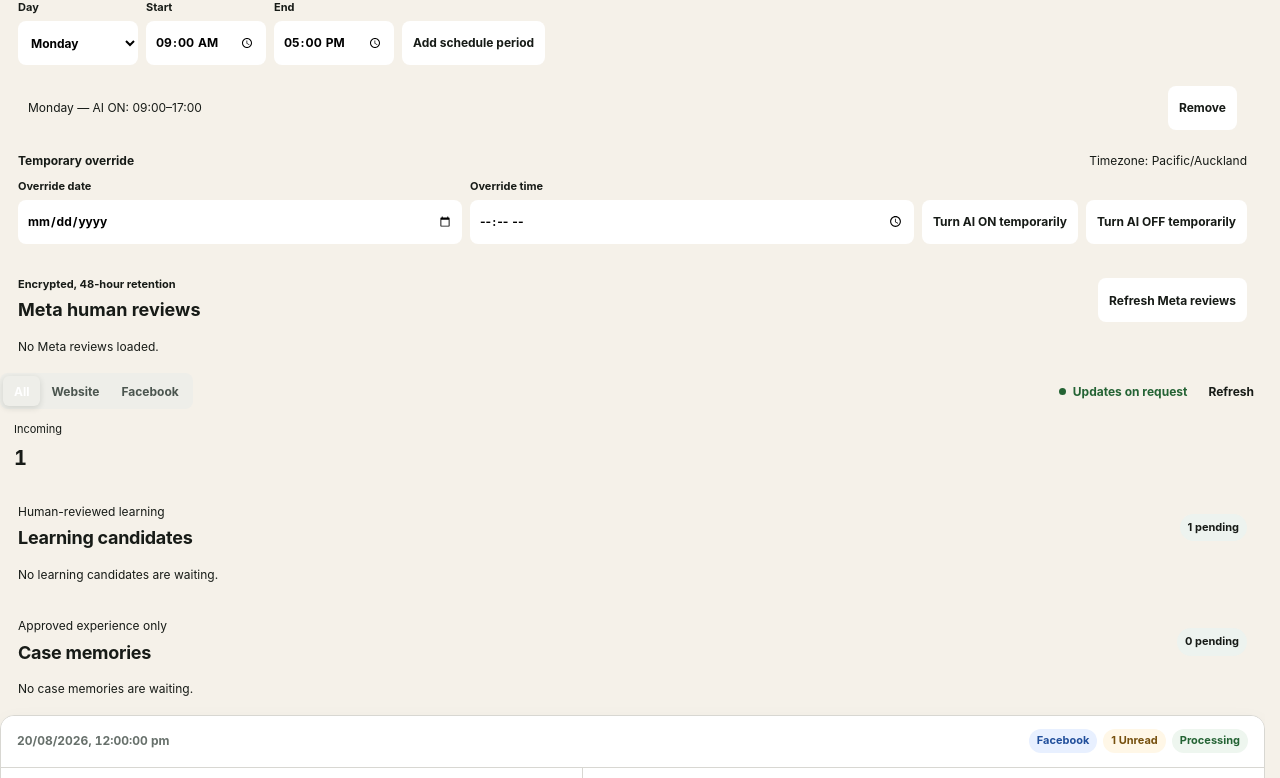
it: ReplyAssistantLiveDashboard › keeps opposite-channel live updates out of the active filtered list
(page scrolled)
Click the button with aria-label "Website metrics".
click(76, 391)  # box x1=40 y1=376 x2=110 y2=406
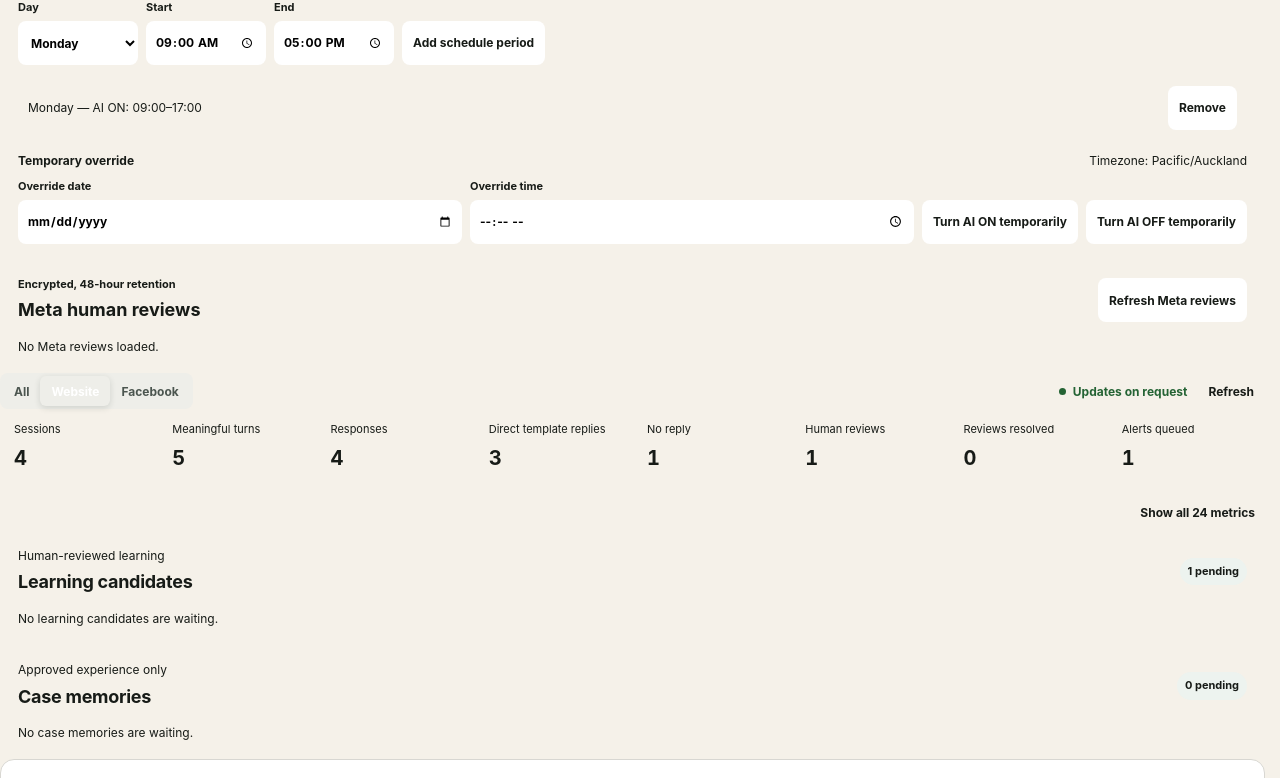
Click the button with aria-label "Refresh conversations".
click(1231, 391)  # box x1=1197 y1=374 x2=1265 y2=408
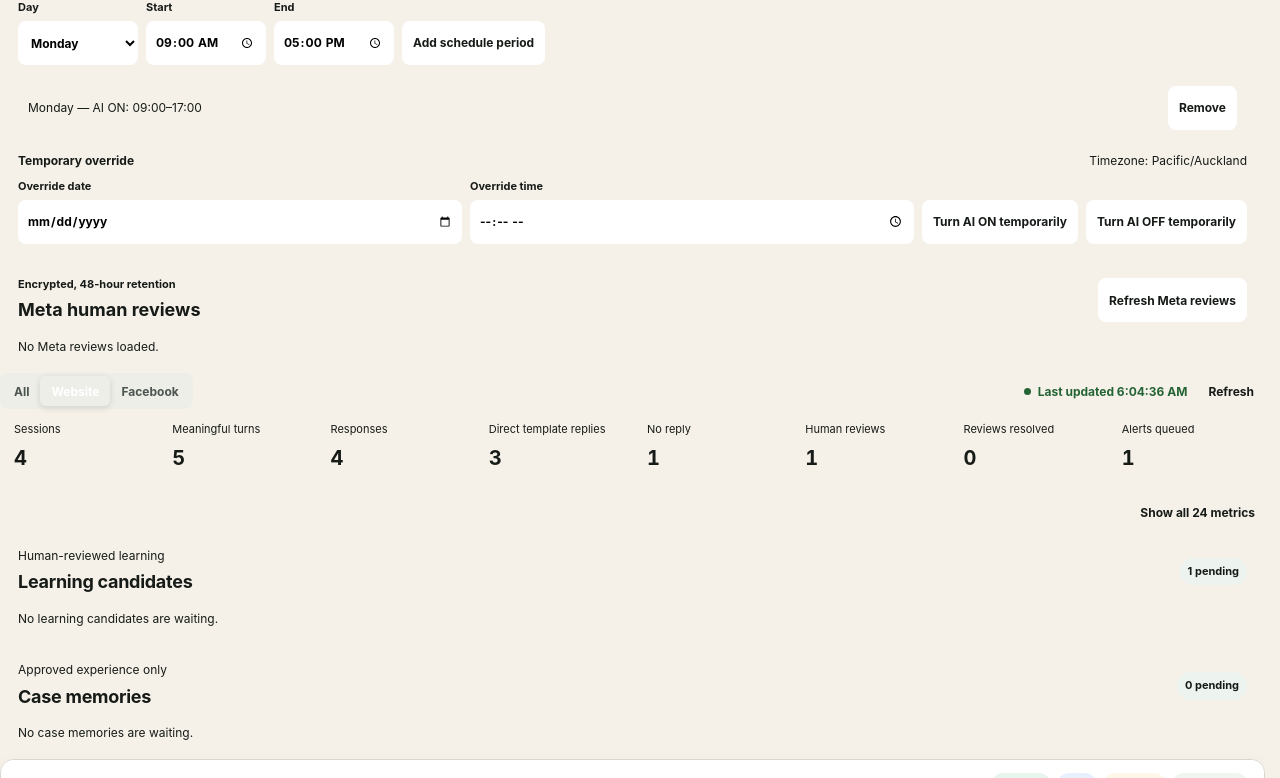
Expected: the text "New Facebook conversation" is not shown
Click the button with aria-label "Facebook metrics".
click(150, 391)  # box x1=110 y1=376 x2=190 y2=406
(page scrolled)
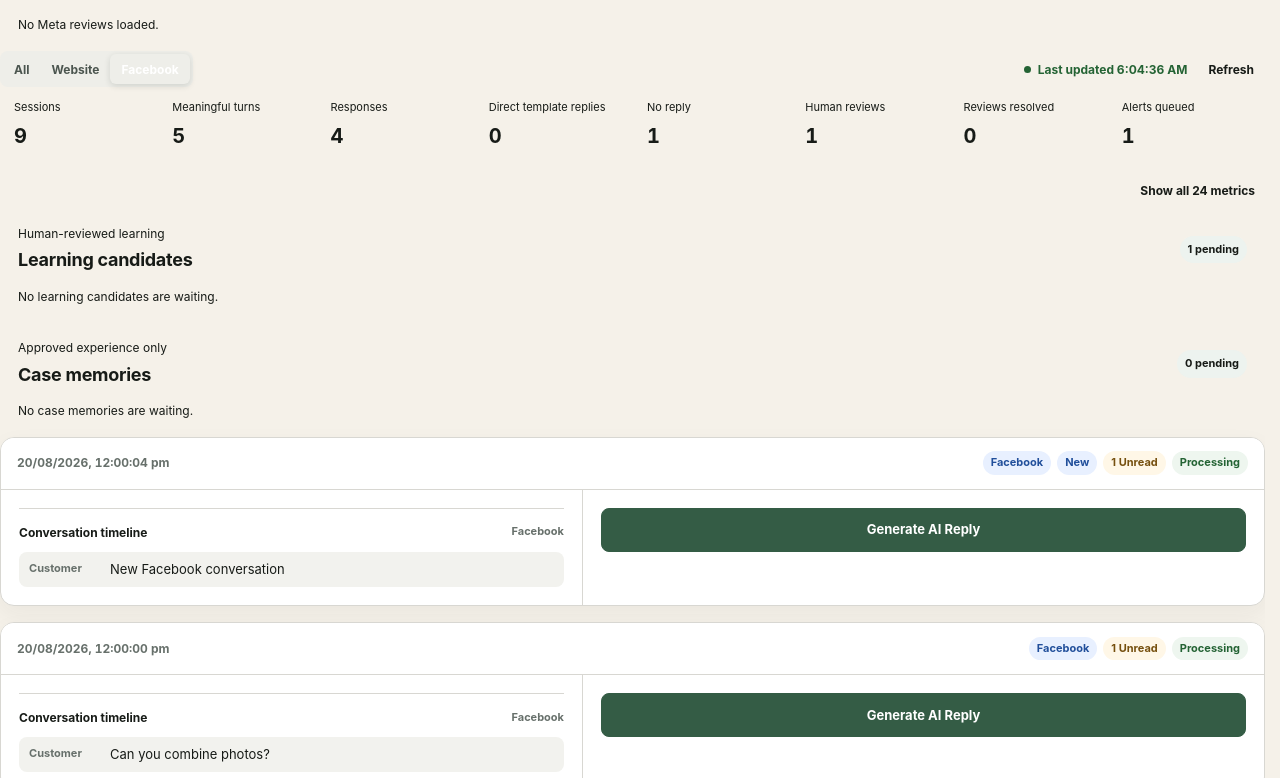
Expected: the text "New Facebook conversation" is shown, x1=110 y1=561 x2=285 y2=577
